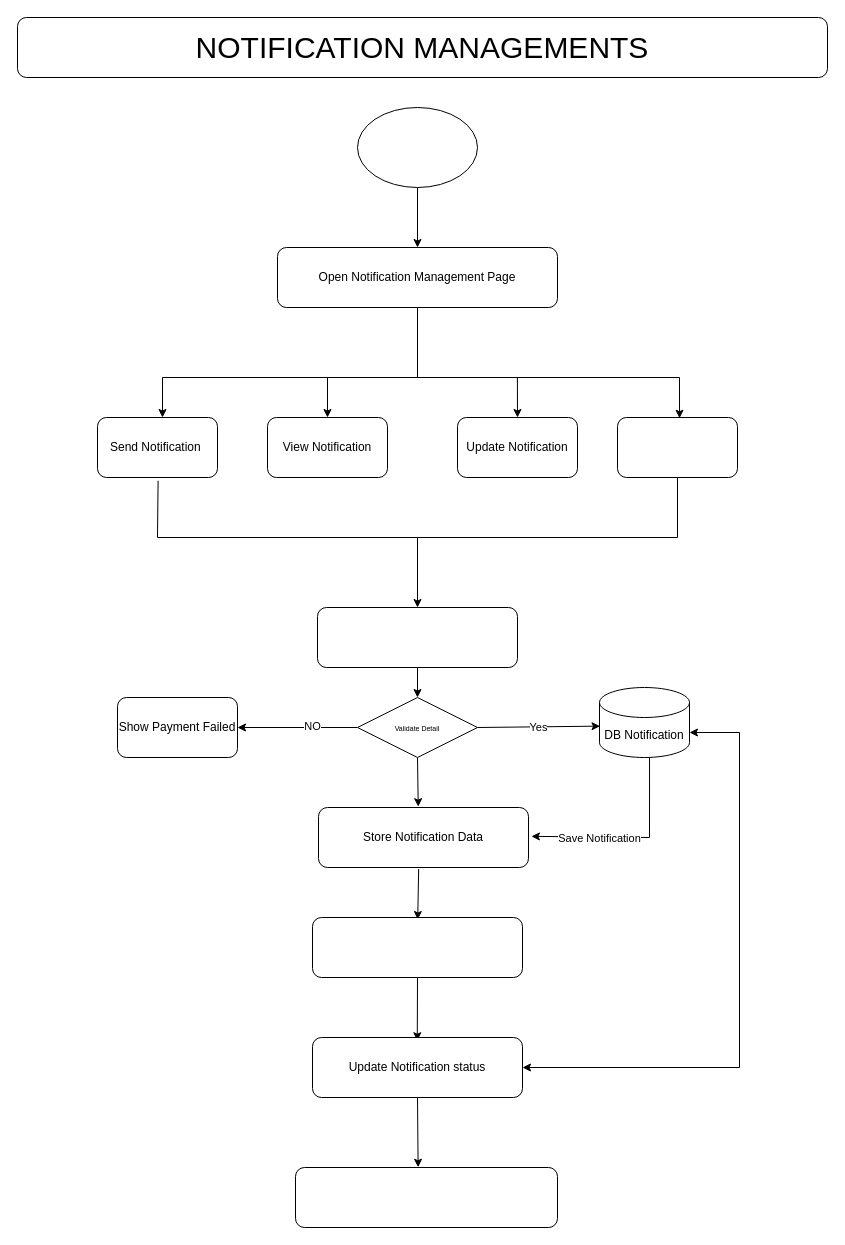
Some shapes in this 845 by 1245 pixel diagram are drawn without their labels. Here are the shapes that lost their labels. From the top down, the box of each, then its label:
(356, 106, 478, 188): Admin
(616, 416, 738, 478): Delete Notifiction
(316, 606, 518, 668): Enter Notification Detail Recient,Subject Message,DateTime
(312, 916, 522, 978): Store Notification To Recipient
(294, 1166, 558, 1228): Display Notification
